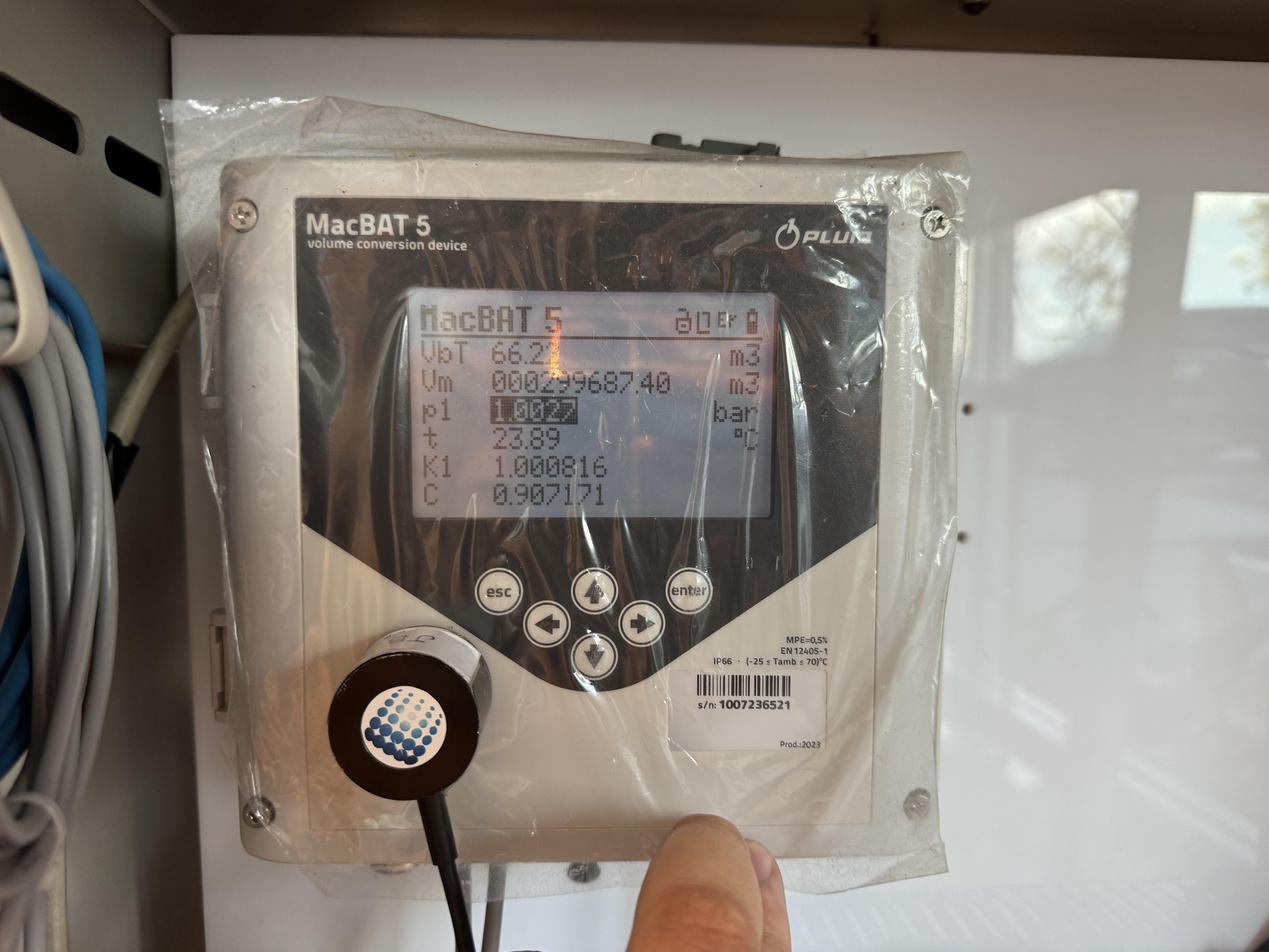digital_screen: (406, 289, 775, 518)
